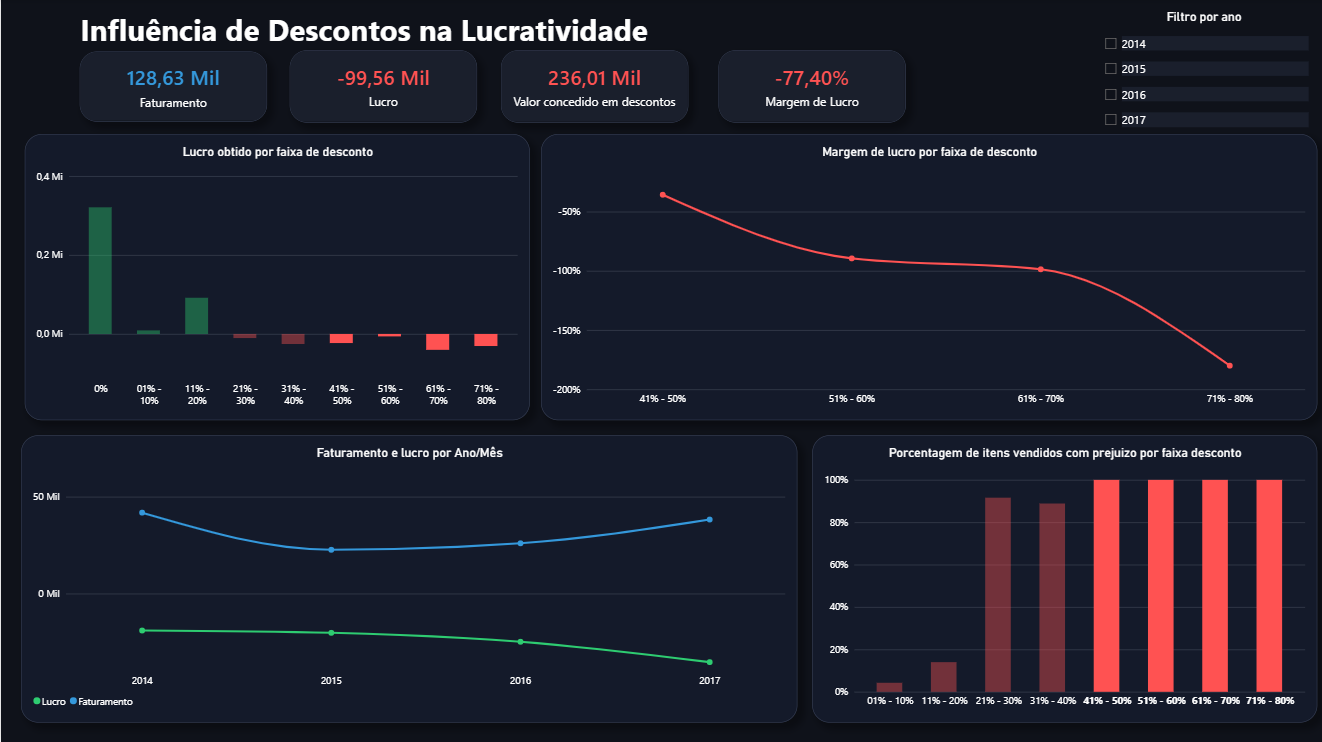

This screenshot's page, from the dashboard's own definition file:
{"tool":"powerbi","page":{"name":"Página 1","canvas":[1920,1080],"ordinal":0},"visuals":[{"type":"cardVisual","fields":{"Data":["Sum(df_final.Profit)"]},"box":[418,74.2,271.4,105],"z":0},{"type":"slicer","title":"Filtro por ano","fields":{"Values":["df_final.Ano"]},"box":[1590.7,14.5,302.2,202.7],"z":1000},{"type":"lineChart","title":"Faturamento e lucro por Ano/Mês","fields":{"Category":["df_final.Ano","df_final.AnoMes"],"Y":["Sum(df_final.Profit)","Sum(df_final.Sales)"]},"box":[29,631.6,1123.8,416.2],"z":2000},{"type":"cardVisual","fields":{"Data":["df_final.Total Desconto"]},"box":[723.9,74.2,271.4,105],"z":3000},{"type":"cardVisual","fields":{"Data":["df_final.Margem Lucro"]},"box":[1038.7,74.2,271.4,105],"z":4000},{"type":"columnChart","title":"Lucro obtido por faixa de desconto","fields":{"Category":["df_final.Faixa Desconto"],"Y":["Sum(df_final.Profit)"]},"box":[34.4,195.4,731.1,414.4],"z":5000},{"type":"columnChart","title":"Porcentagem de itens vendidos com prejuizo por faixa desconto","fields":{"Category":["df_final.Faixa Desconto"],"Y":["df_final.% Itens com Prejuizo"]},"box":[1174.5,631.6,731.1,416.2],"z":6000},{"type":"lineChart","title":"Margem de lucro por faixa de desconto","fields":{"Category":["df_final.Faixa Desconto"],"Y":["df_final.Margem Lucro Texto"]},"box":[781.8,195.4,1123.8,414.4],"z":7000},{"type":"cardVisual","fields":{"Data":["Sum(df_final.Sales)"]},"box":[113.6,76,271.4,101.3],"z":8000},{"type":"textbox","box":[0,14.5,1051.4,74.2],"z":9000}]}

Visuals, with their boxes in screenshot pixels (x1, y1, x2, y2), scaled from the page's 1920x1080 canvas onto the 1322x742 screenshot:
cardVisual - Sum(df_final.Profit): 288/51/475/123
"Filtro por ano" slicer: 1095/10/1303/149
"Faturamento e lucro por Ano/Mês" lineChart: 20/434/794/720
cardVisual - df_final.Total Desconto: 498/51/685/123
cardVisual - df_final.Margem Lucro: 715/51/902/123
"Lucro obtido por faixa de desconto" columnChart: 24/134/527/419
"Porcentagem de itens vendidos com prejuizo por faixa desconto" columnChart: 809/434/1312/720
"Margem de lucro por faixa de desconto" lineChart: 538/134/1312/419
cardVisual - Sum(df_final.Sales): 78/52/265/122
textbox: 0/10/724/61
